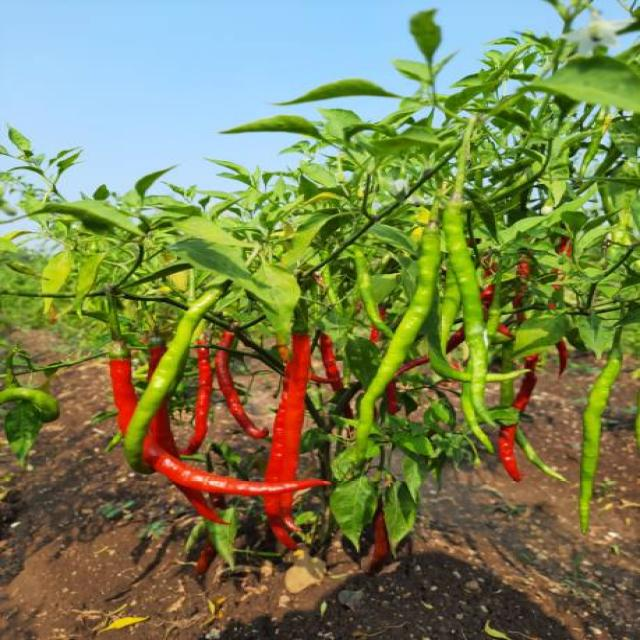Ripe: (144, 431, 331, 497), (264, 335, 312, 549), (112, 359, 137, 435)
Unripe: (356, 227, 439, 459), (123, 290, 218, 471), (442, 116, 491, 422), (580, 359, 619, 533)
